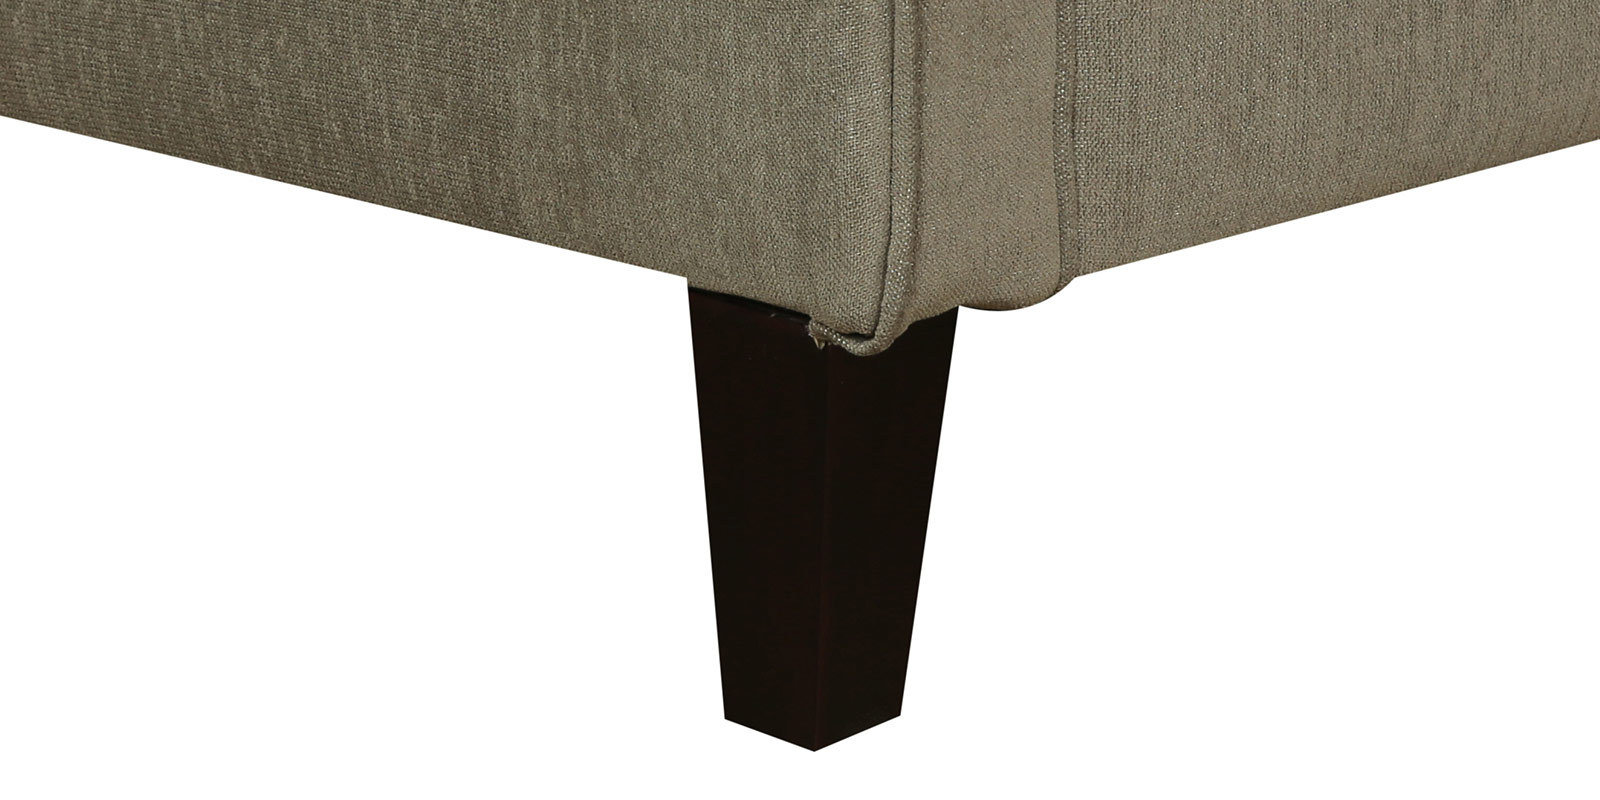Oscar Three Seater Sofa in Sandy Brown Colour by CasaCraft: (1, 1, 1600, 750)
